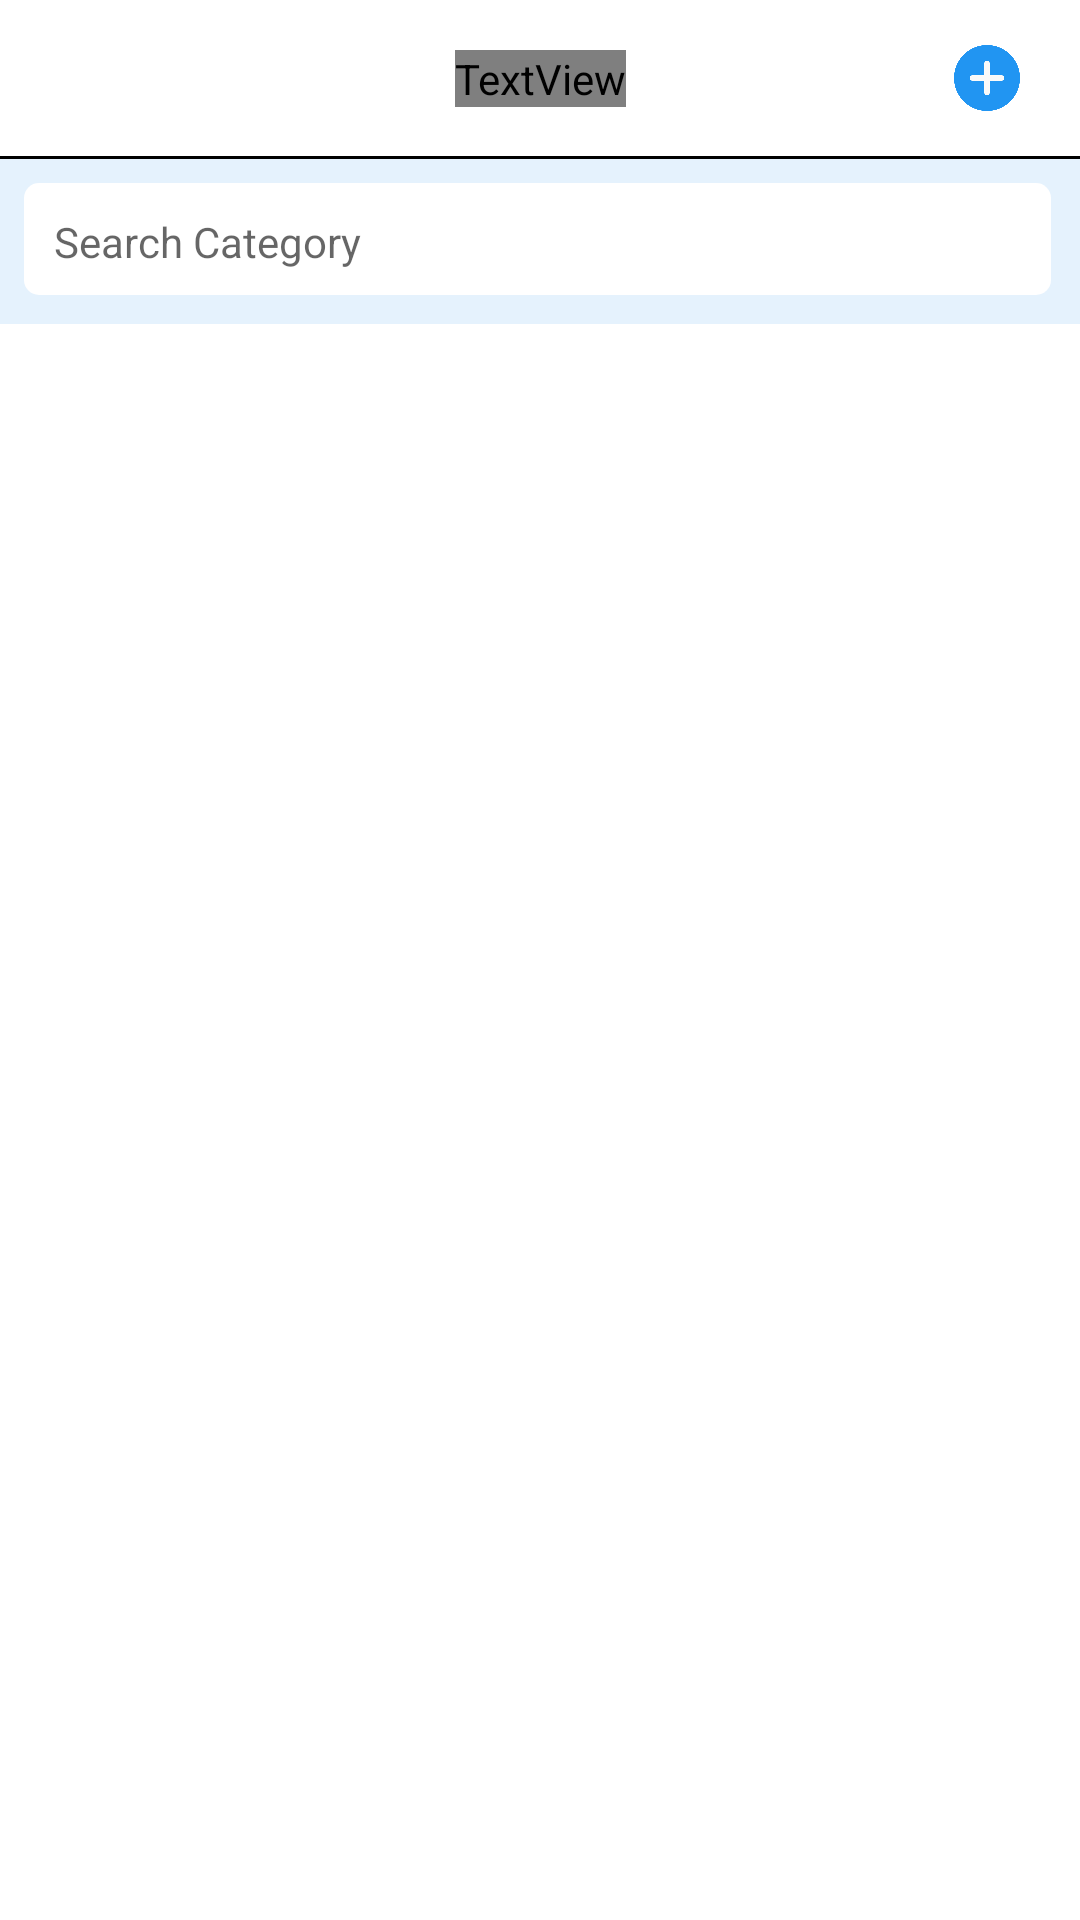

Named icons in this screenshot (1080px x 1920px) and their bounding boxes, box=[x1, y1, x2, y2]:
plus: box=[954, 45, 1020, 111]
